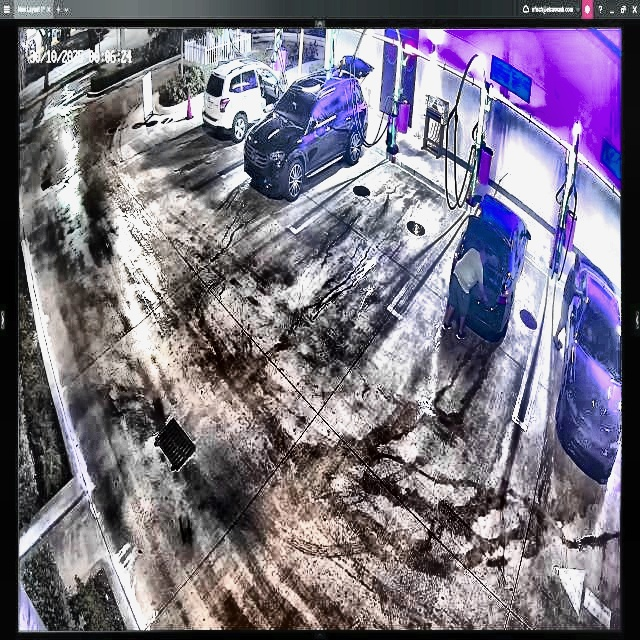Car: (243, 54, 374, 195), (451, 191, 531, 339)
